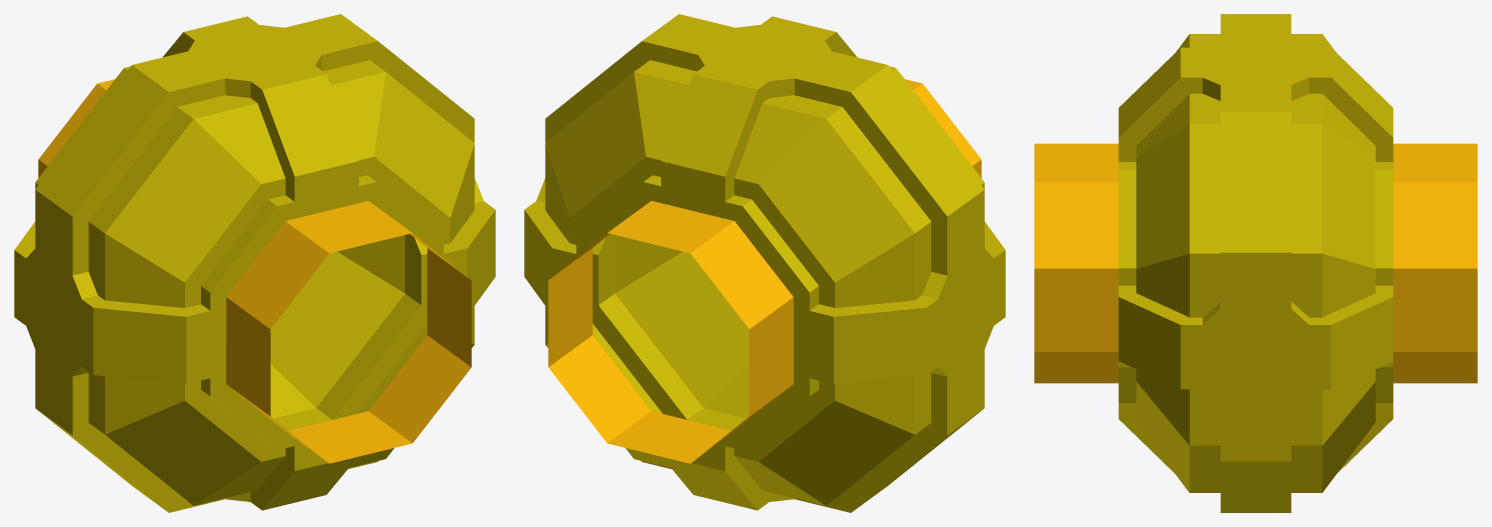
Rendered from mpe_shaft_locking_pawl.dae.
The picture shows the model from 3 angles, left to right: view 1: azimuth 30°, elevation 25°; view 2: azimuth 150°, elevation 25°; view 3: azimuth 270°, elevation 25°; orthographic projection. The views are drawn at different scales.
Parts seen in each view (by area): view 1: shaft_locking_pawl; view 2: shaft_locking_pawl; view 3: shaft_locking_pawl.
Part boxes in pixels (x1,y1,x2,y2): shaft_locking_pawl: (14, 14, 495, 512); shaft_locking_pawl: (524, 14, 1005, 512); shaft_locking_pawl: (1034, 14, 1477, 512).
Bounding box in the file's own units: 0.25 × 0.25 × 0.25.
